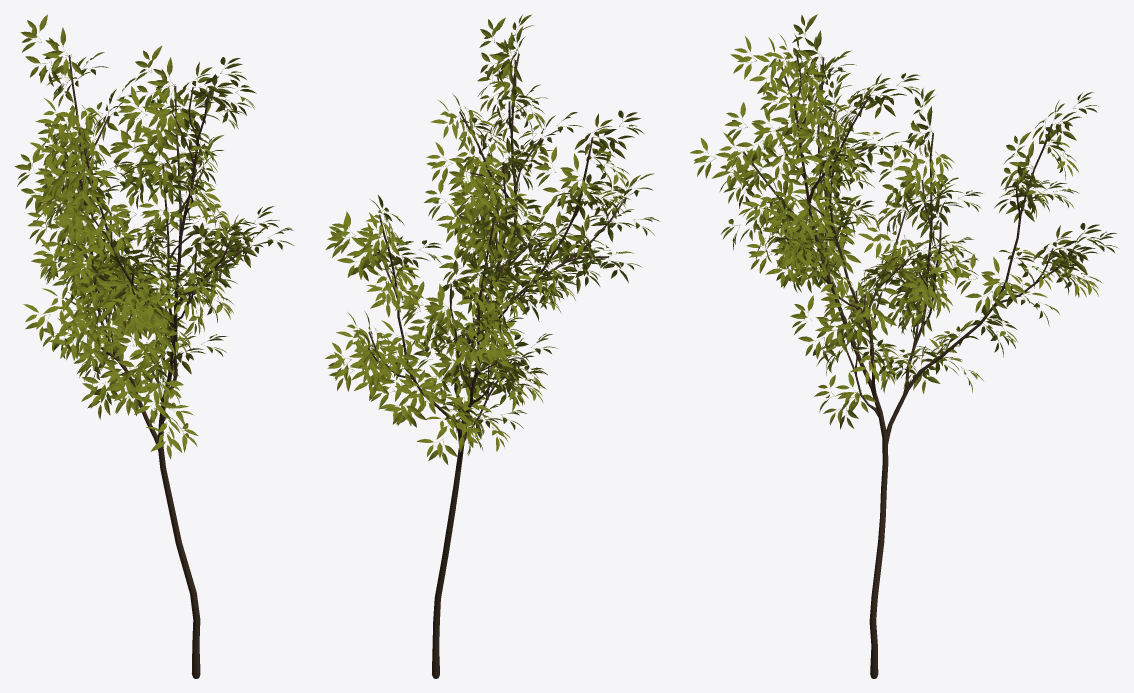
The model's file is zelkova_schneideriana_optimized.glb.
The picture shows the model from 3 angles, left to right: view 1: azimuth 30°, elevation 25°; view 2: azimuth 150°, elevation 25°; view 3: azimuth 270°, elevation 25°; orthographic projection. The views are drawn at different scales.
Parts seen in each view (by area): view 1: Object_6, Object_4; view 2: Object_6, Object_4; view 3: Object_6, Object_4.
Part boxes in pixels (x1,y1,x2,y2): Object_6: (14, 14, 293, 459); Object_4: (63, 55, 249, 678); Object_6: (325, 14, 659, 464); Object_4: (368, 53, 626, 678); Object_6: (690, 14, 1118, 429); Object_4: (743, 55, 1069, 678).
Size of the model in its own units: 3.92 by 10.54 by 6.48.
